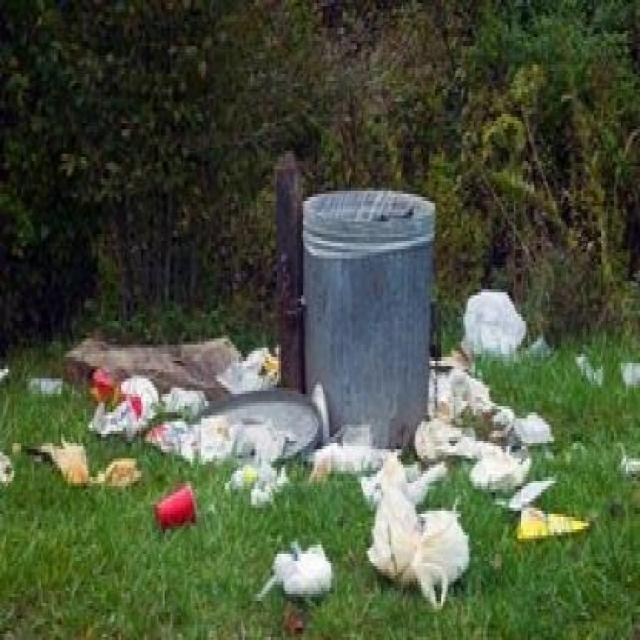garbage: (276, 305, 537, 594), (71, 338, 342, 476), (0, 428, 110, 496), (151, 465, 204, 526)
